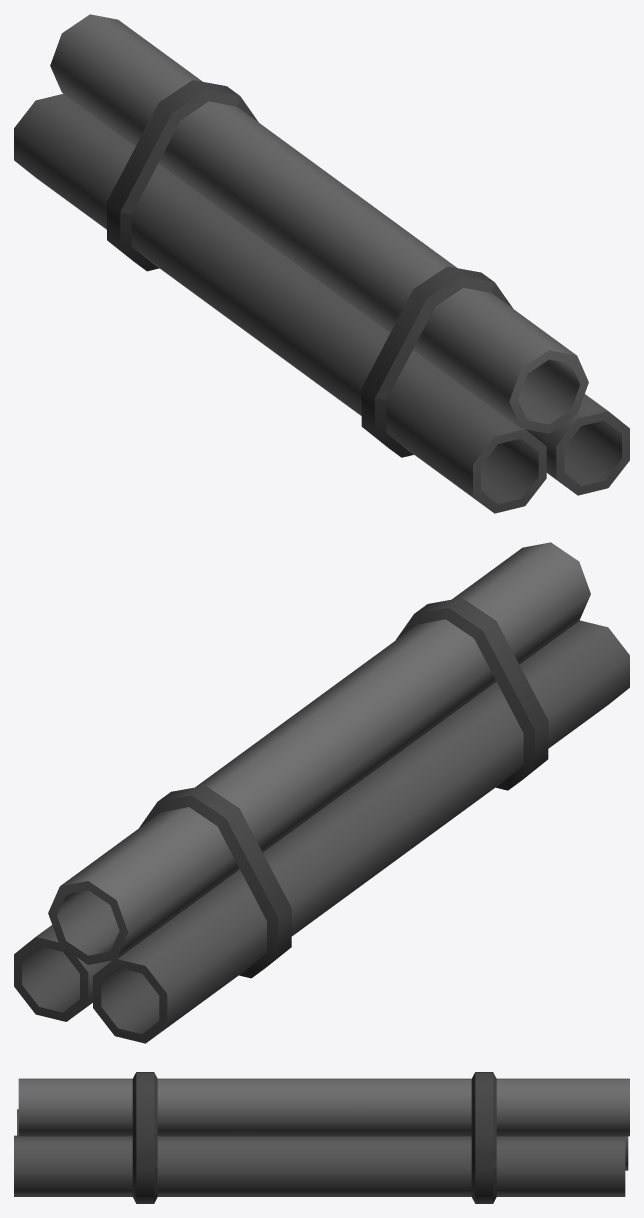
The model's file is Pipes_C_1_4.fbx.
The picture shows the model from 3 angles, top to bottom: view 1: azimuth 30°, elevation 25°; view 2: azimuth 150°, elevation 25°; view 3: azimuth 270°, elevation 25°; orthographic projection. The views are drawn at different scales.
Parts seen in each view (by area): view 1: Pipes_C_1_4; view 2: Pipes_C_1_4; view 3: Pipes_C_1_4.
Part boxes in pixels (x1,y1,x2,y2): Pipes_C_1_4: (14,14,629,513); Pipes_C_1_4: (14,542,629,1043); Pipes_C_1_4: (14,1072,629,1203).
Bounding box in the file's own units: 119 × 111 × 555.
